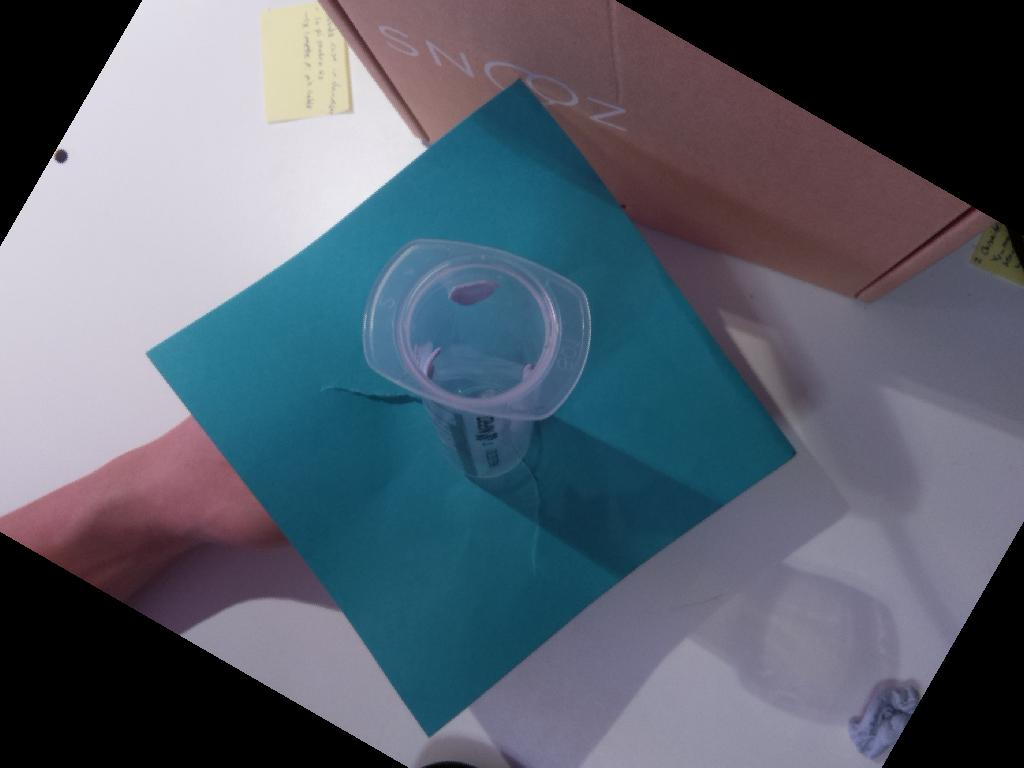dirty: (360, 236, 593, 421)
